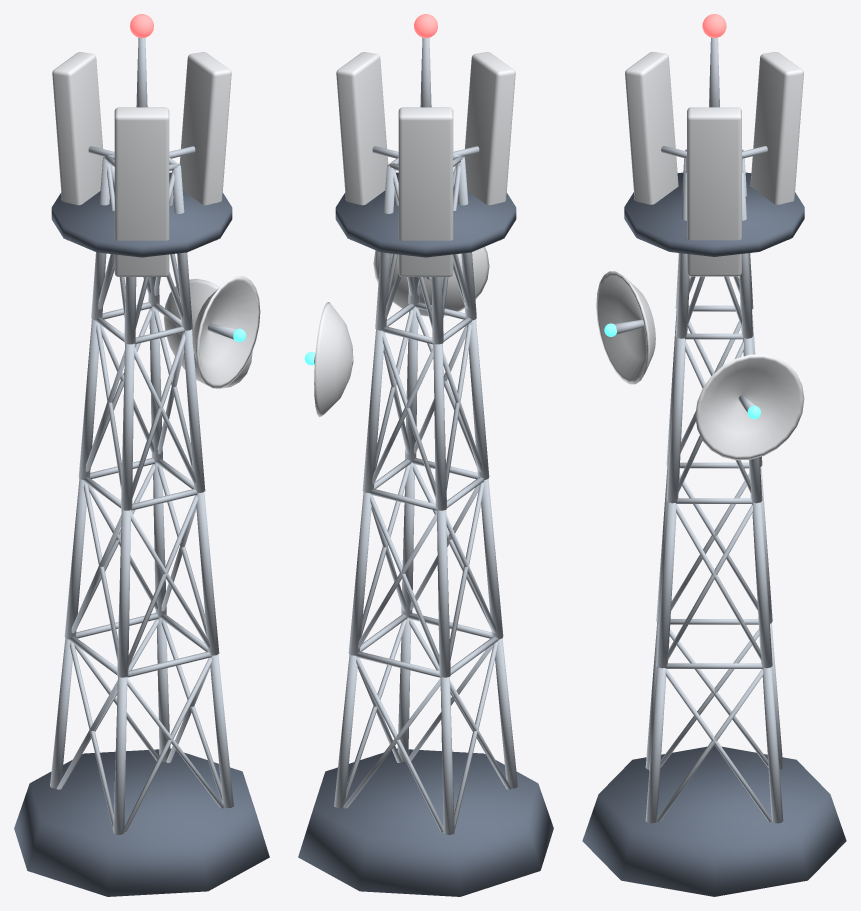
The model's file is tower_5g_cell.glb.
3 renders of one model, left to right at view 1: azimuth 30°, elevation 25°; view 2: azimuth 150°, elevation 25°; view 3: azimuth 270°, elevation 25°, orthographic.
Parts seen in each view (by area): view 1: TowerPad, Sector5G_2, PlatRing, Sector5G_0, Sector5G_1, Dish_1, Leg_1_2, Leg_2_2, Leg_1_3, Leg_0_2, Leg_2_3, Dish_0 (+31 smaller); view 2: TowerPad, Sector5G_1, PlatRing, Sector5G_0, Sector5G_2, Dish_0, Dish_1, Leg_1_1, Leg_2_1, Leg_1_0, Leg_0_1, Leg_2_0 (+31 smaller); view 3: TowerPad, Dish_0, Sector5G_0, PlatRing, Sector5G_1, Sector5G_2, Dish_1, Leg_1_0, Leg_1_3, Leg_2_3, Leg_0_0, Leg_0_3 (+15 smaller).
Part boxes in pixels (left/top/right/bottom): TowerPad: left=14, top=748, right=269, bottom=896; Sector5G_2: left=114, top=107, right=169, bottom=276; PlatRing: left=51, top=172, right=232, bottom=257; Sector5G_0: left=179, top=52, right=231, bottom=240; Sector5G_1: left=52, top=52, right=103, bottom=240; Dish_1: left=192, top=276, right=260, bottom=388; Leg_1_2: left=117, top=510, right=131, bottom=677; Leg_2_2: left=121, top=343, right=134, bottom=510; Leg_1_3: left=195, top=492, right=219, bottom=655; Leg_0_2: left=113, top=676, right=127, bottom=834; Leg_2_3: left=183, top=329, right=205, bottom=493; Dish_0: left=164, top=278, right=252, bottom=388; TowerPad: left=298, top=748, right=553, bottom=896; Sector5G_1: left=398, top=107, right=453, bottom=276; PlatRing: left=335, top=172, right=516, bottom=257; Sector5G_0: left=336, top=52, right=388, bottom=240; Sector5G_2: left=464, top=52, right=515, bottom=240; Dish_0: left=314, top=302, right=353, bottom=417; Dish_1: left=373, top=246, right=489, bottom=317; Leg_1_1: left=436, top=510, right=450, bottom=677; Leg_2_1: left=433, top=343, right=446, bottom=510; Leg_1_0: left=348, top=492, right=372, bottom=655; Leg_0_1: left=440, top=676, right=454, bottom=834; Leg_2_0: left=362, top=329, right=384, bottom=493; TowerPad: left=582, top=745, right=846, bottom=896; Dish_0: left=695, top=354, right=804, bottom=460; Sector5G_0: left=687, top=107, right=741, bottom=276; PlatRing: left=624, top=172, right=804, bottom=256; Sector5G_1: left=750, top=52, right=803, bottom=239; Sector5G_2: left=625, top=52, right=678, bottom=239; Dish_1: left=596, top=271, right=655, bottom=384; Leg_1_0: left=752, top=502, right=772, bottom=668; Leg_1_3: left=656, top=502, right=676, bottom=668; Leg_2_3: left=666, top=337, right=685, bottom=503; Leg_0_0: left=762, top=667, right=783, bottom=823; Leg_0_3: left=645, top=667, right=666, bottom=823.
Size of the model in its own units: 1.64 by 5.65 by 1.64.
